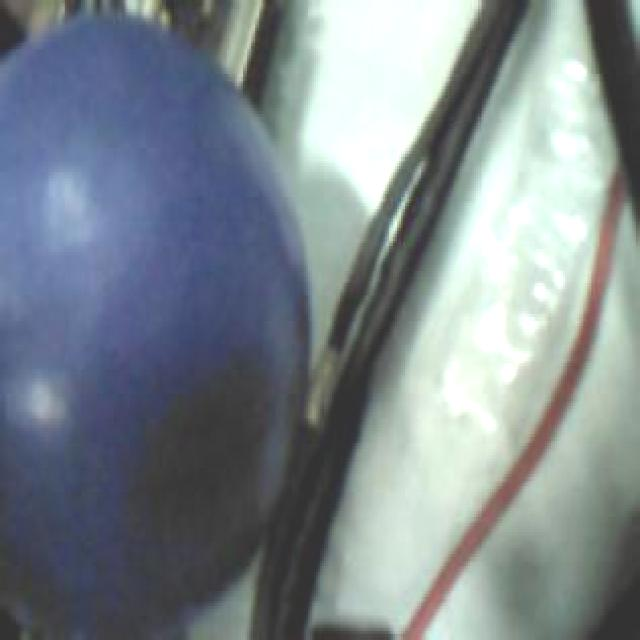BallPurple: (0, 13, 312, 627)
